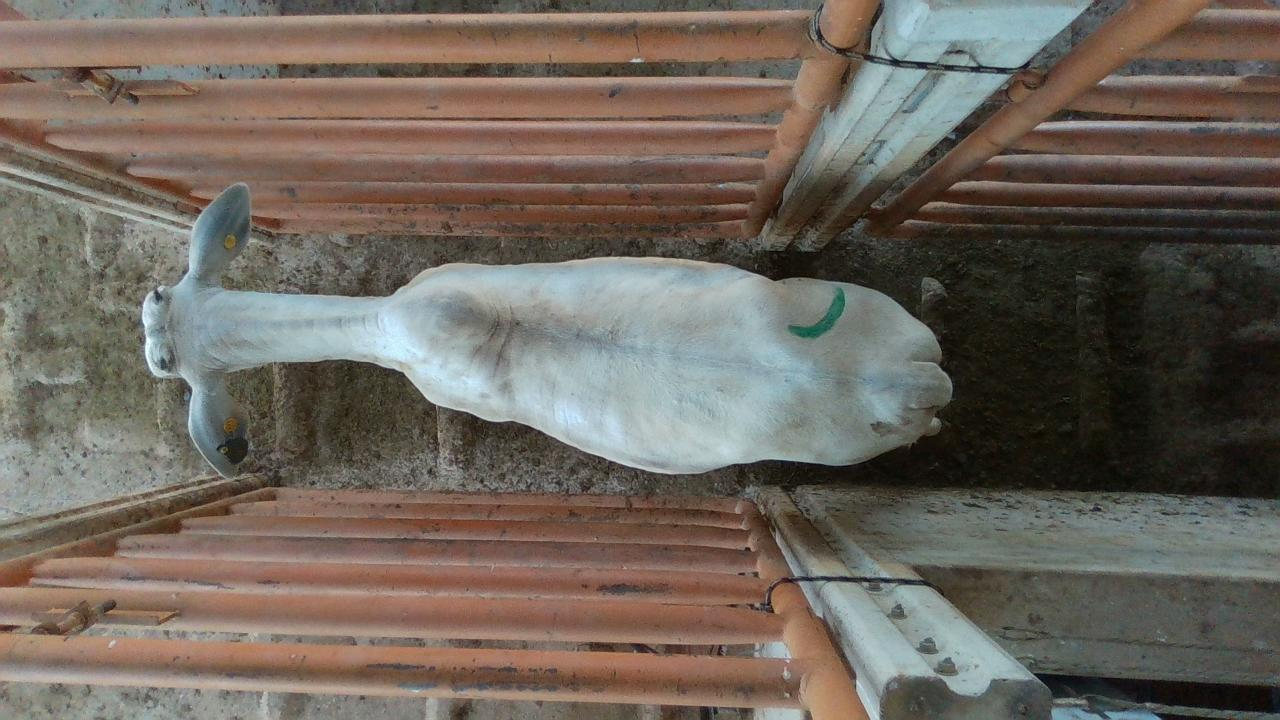cattle: (140, 180, 954, 480)
